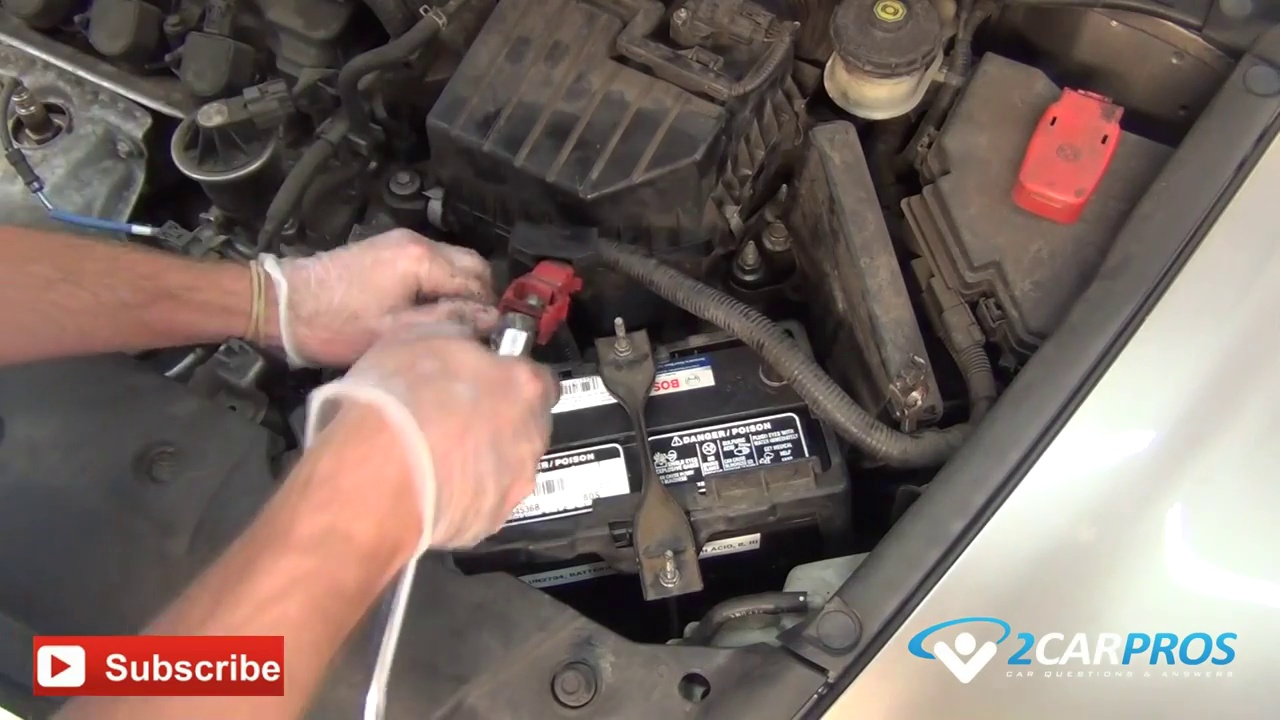battery: (411, 272, 827, 549)
pos_touched: (452, 249, 602, 463)
